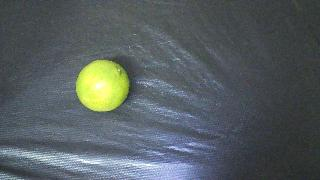LOCAL: (76, 60, 130, 112)
